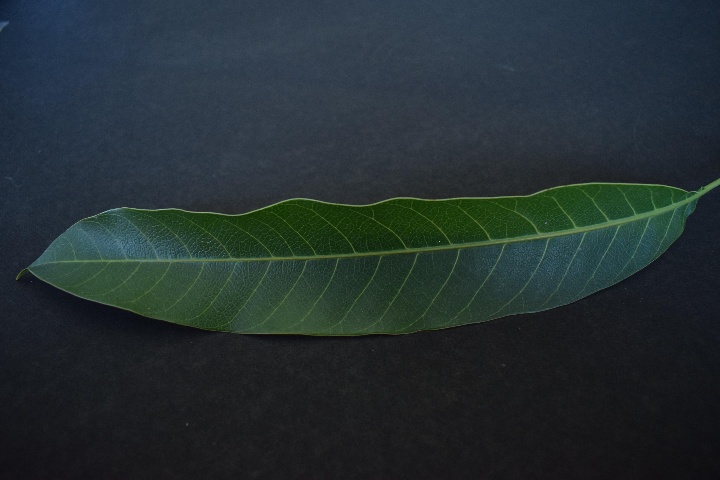healthy: (38, 178, 679, 344)
